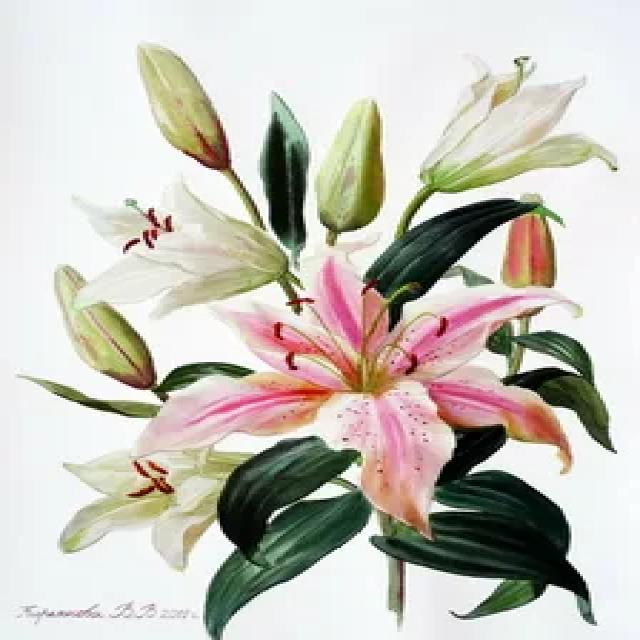lily: (44, 162, 330, 324), (405, 38, 625, 218)
